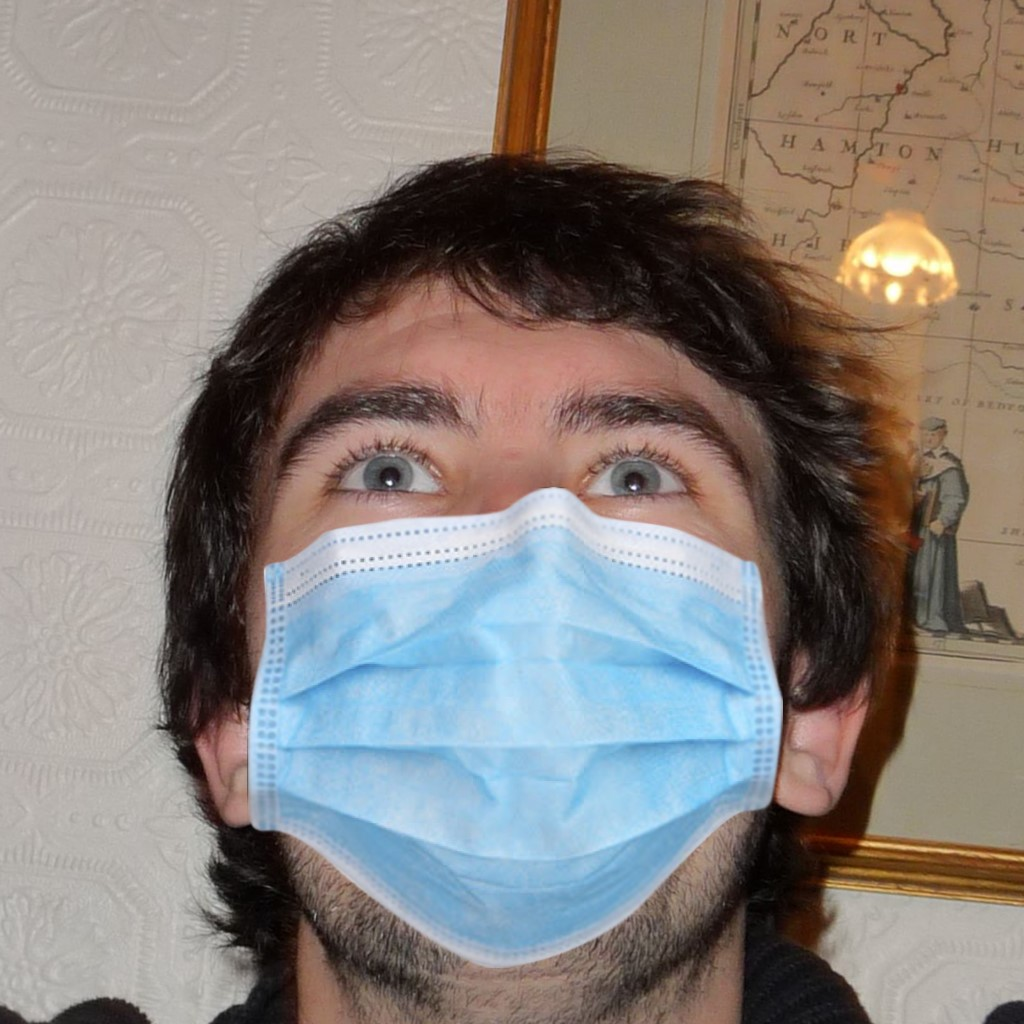con_mascara: (258, 270, 773, 944)
